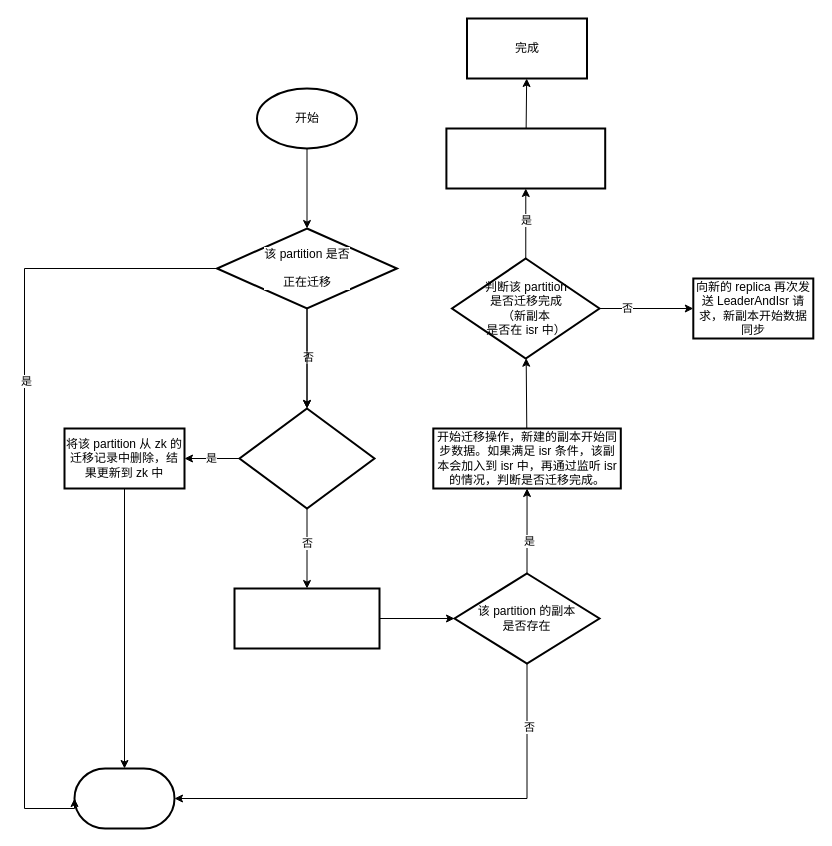
Image size: 832x846. Some labels were removed from this diagram. Here are the shapes that lost their labels. From the top down, the box of each, then its label:
(445, 127, 606, 189): 迁移完成后，下线旧的副本，将新的副本信息更新到缓存并更新 zk 中副本迁移的 partition 列表。
(238, 407, 375, 509): 该 partition 是否 标记为删除
(233, 587, 380, 649): 初始化要迁移的 partition
(73, 767, 175, 829): 结束
